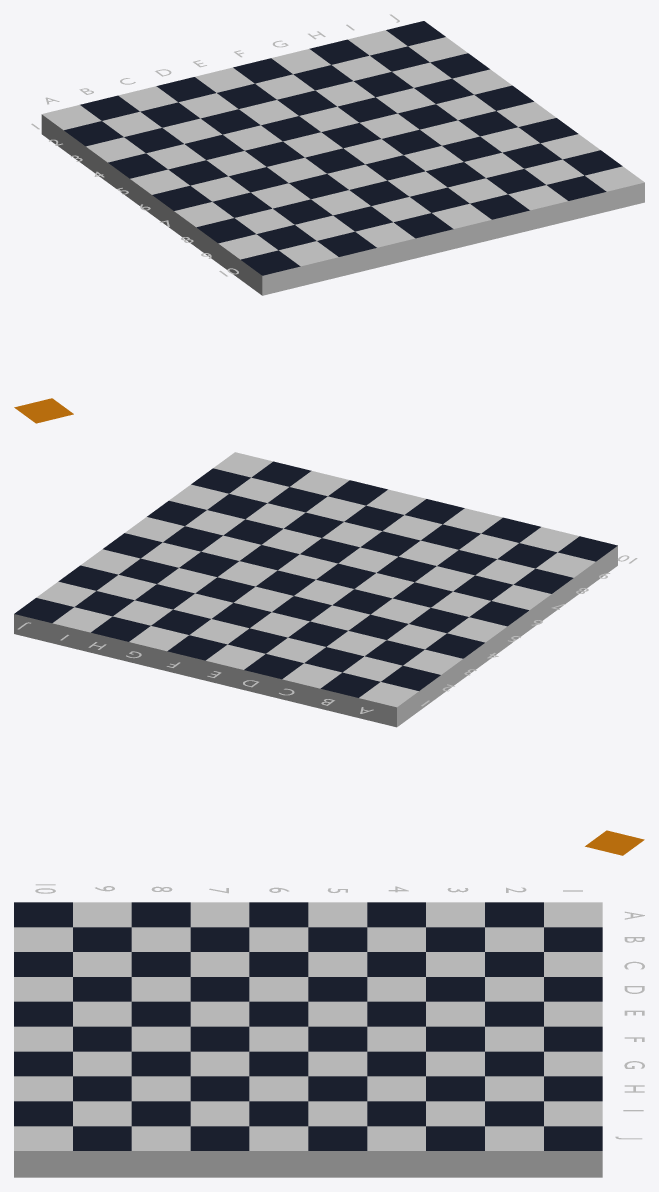
File: shoot.obj
The picture shows the model from 3 angles, top to bottom: view 1: azimuth 30°, elevation 25°; view 2: azimuth 150°, elevation 25°; view 3: azimuth 270°, elevation 25°; orthographic projection. The views are drawn at different scales.
Parts seen in each view (by area): view 1: Cube_Cube.001, Plane; view 2: Cube_Cube.001, Plane; view 3: Cube_Cube.001.
Boxes of the visible parts, box(x1,y1,x2,y2) form: Cube_Cube.001: box(41, 21, 644, 295); Plane: box(14, 398, 73, 423); Cube_Cube.001: box(14, 452, 617, 727); Plane: box(585, 830, 644, 855); Cube_Cube.001: box(14, 902, 602, 1177).
Size of the model in its own units: 2.66 by 0.9488 by 2.14.
